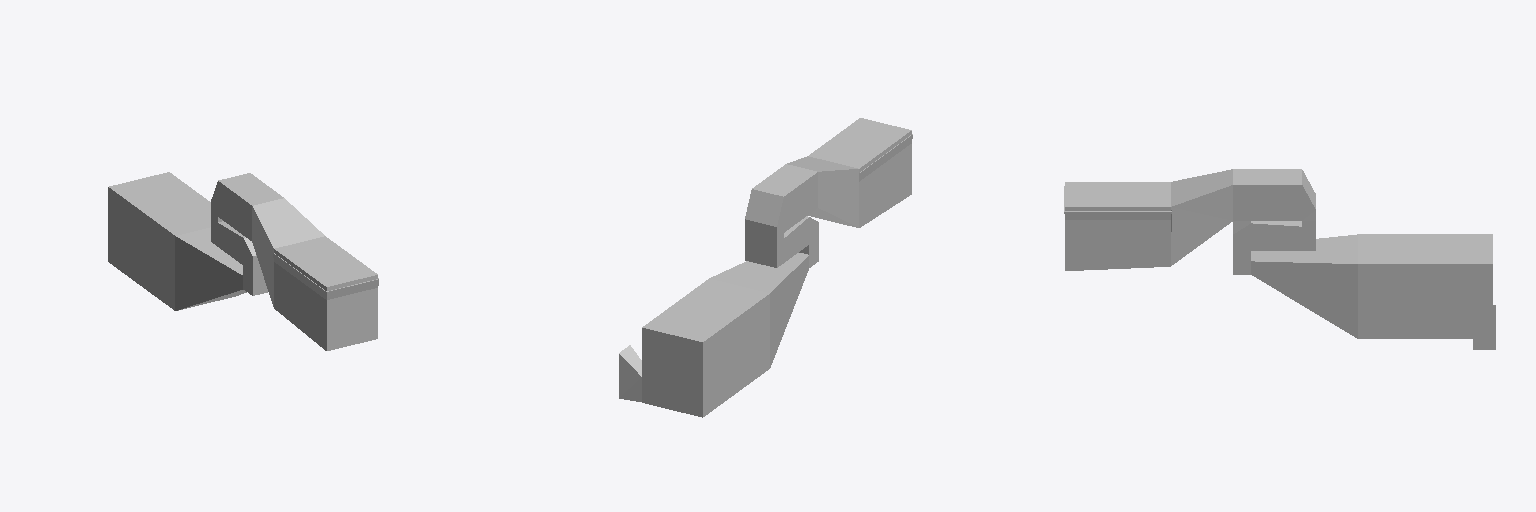
Rendered from bodyShop.obj.
3 views of the same model, side by side, from view 1: azimuth 30°, elevation 25°; view 2: azimuth 150°, elevation 25°; view 3: azimuth 270°, elevation 25° (orthographic).
Parts seen in each view (by area): view 1: Plane; view 2: Plane; view 3: Plane.
Part boxes in pixels (x1,y1,x2,y2): Plane: (108,172,378,350); Plane: (619,118,912,417); Plane: (1064,169,1495,349).
Bounding box in the file's own units: 39.54 × 67.4 × 178.